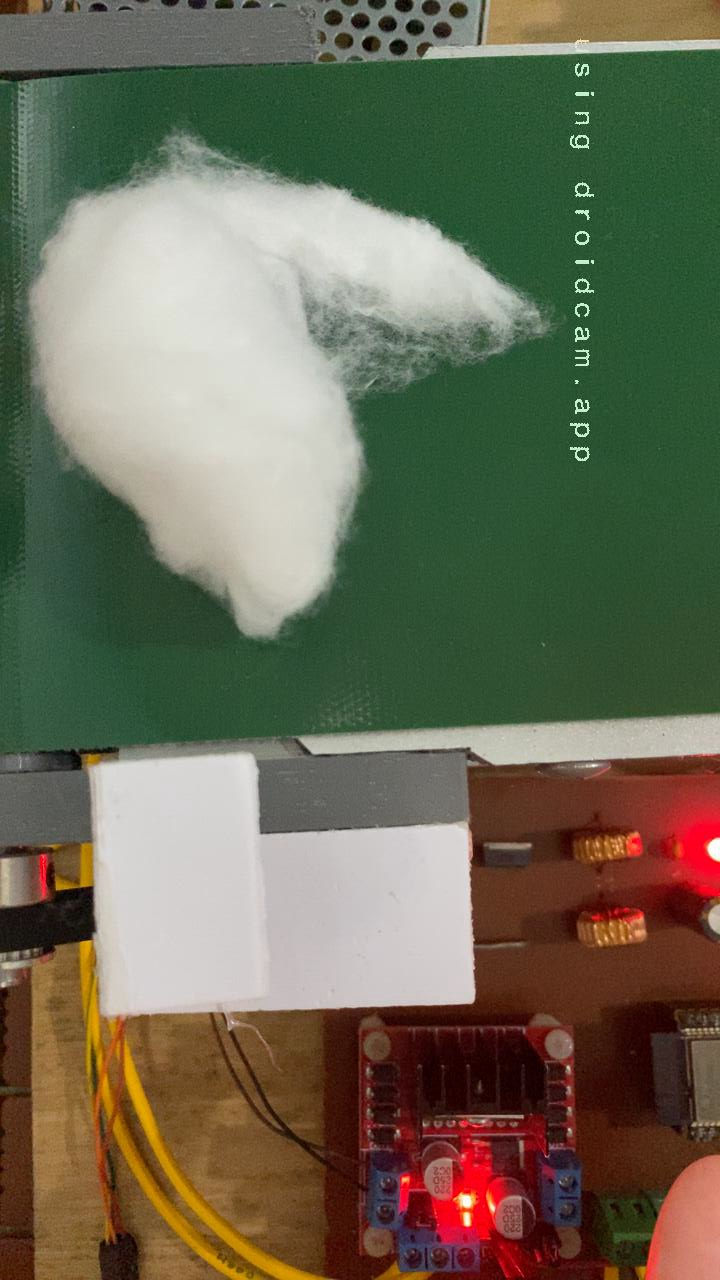cotton: (19, 130, 548, 644)
